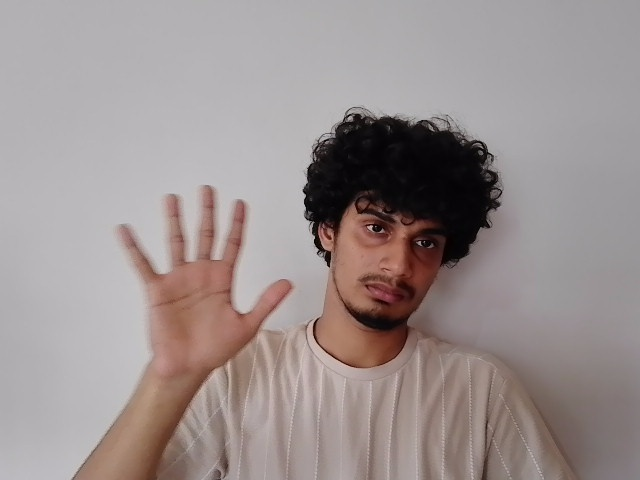goodbye: (110, 184, 292, 378)
